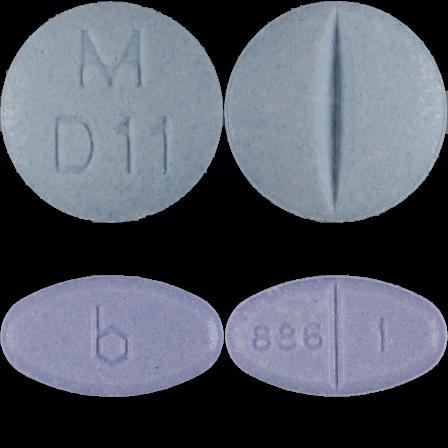33261-658: (0, 0, 224, 224)
